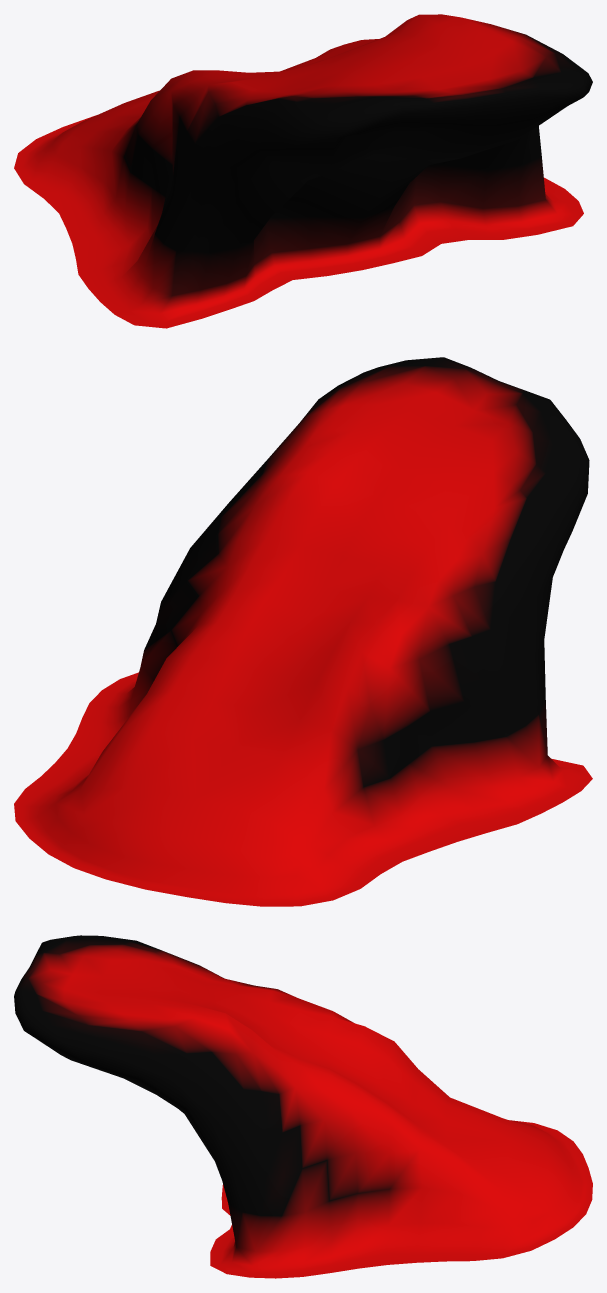
File: GroundObject12A.fbx
The picture shows the model from 3 angles, top to bottom: view 1: azimuth 30°, elevation 25°; view 2: azimuth 150°, elevation 25°; view 3: azimuth 270°, elevation 25°; orthographic projection. The views are drawn at different scales.
Parts seen in each view (by area): view 1: GroundObject12A; view 2: GroundObject12A; view 3: GroundObject12A.
Boxes of the visible parts, x1,y1,x2,y2 form: GroundObject12A: (14, 14, 592, 328); GroundObject12A: (14, 357, 592, 906); GroundObject12A: (14, 935, 592, 1278).
Size of the model in its own units: 3.18 by 1.73 by 4.2.
